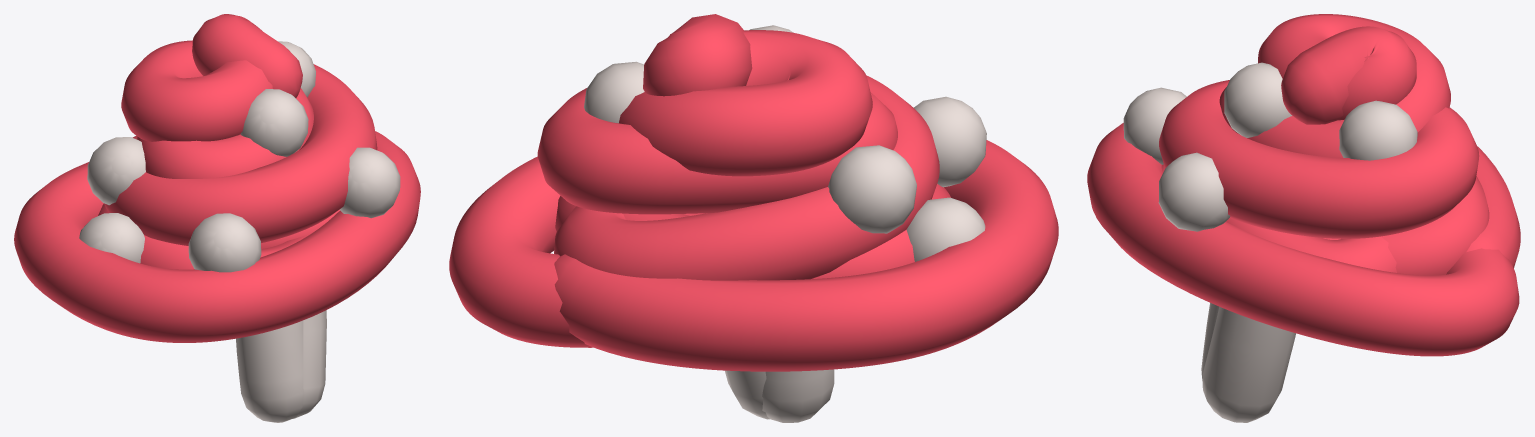
The model's file is shroomjak.fbx.
The picture shows the model from 3 angles, left to right: view 1: azimuth 30°, elevation 25°; view 2: azimuth 150°, elevation 25°; view 3: azimuth 270°, elevation 25°; orthographic projection. The views are drawn at different scales.
Visible parts, largest first — view 1: shroom; view 2: shroom; view 3: shroom.
Boxes of the visible parts, bbox=[...] form: shroom: bbox=[14, 14, 420, 422]; shroom: bbox=[449, 14, 1058, 422]; shroom: bbox=[1087, 14, 1520, 422].
Bounding box in the file's own units: 48.51 × 41.64 × 42.1.
